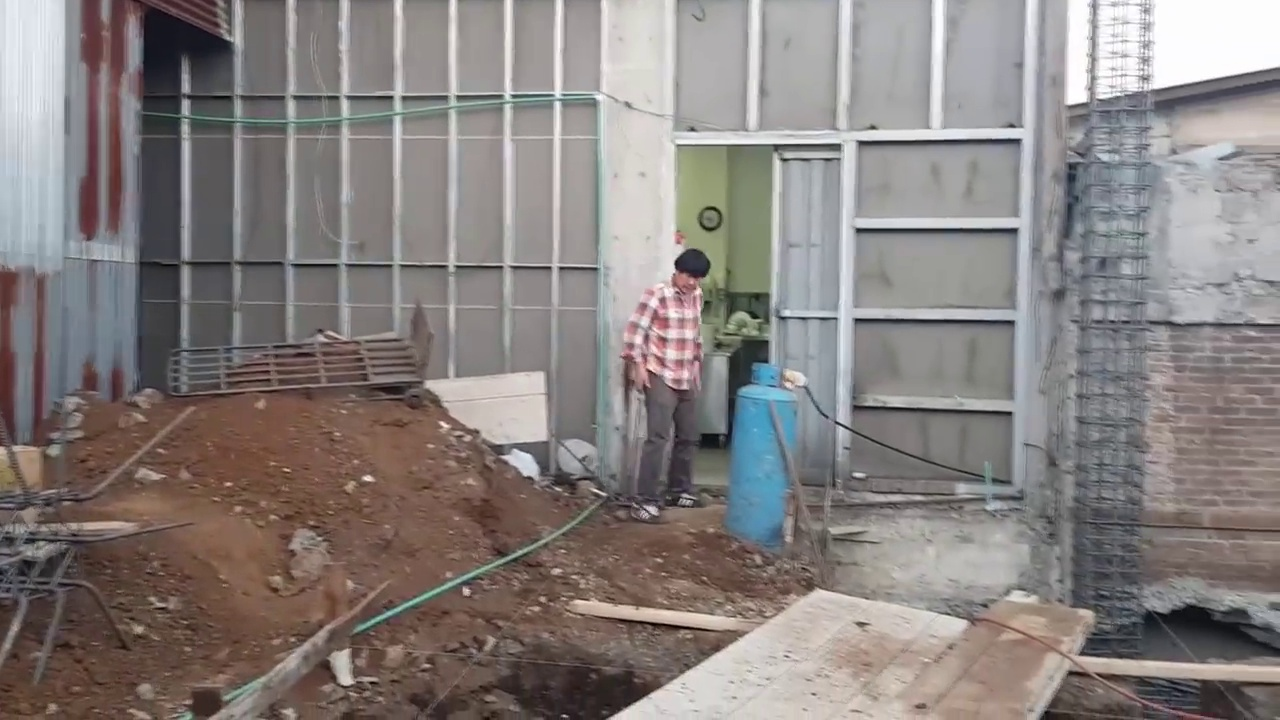helmet-off: (667, 249, 709, 299)
person: (625, 247, 722, 519)
